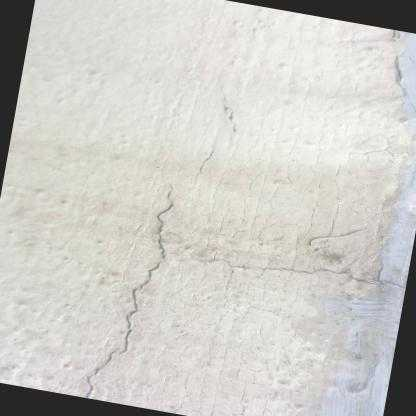crack: (82, 198, 177, 399), (265, 265, 376, 285)
